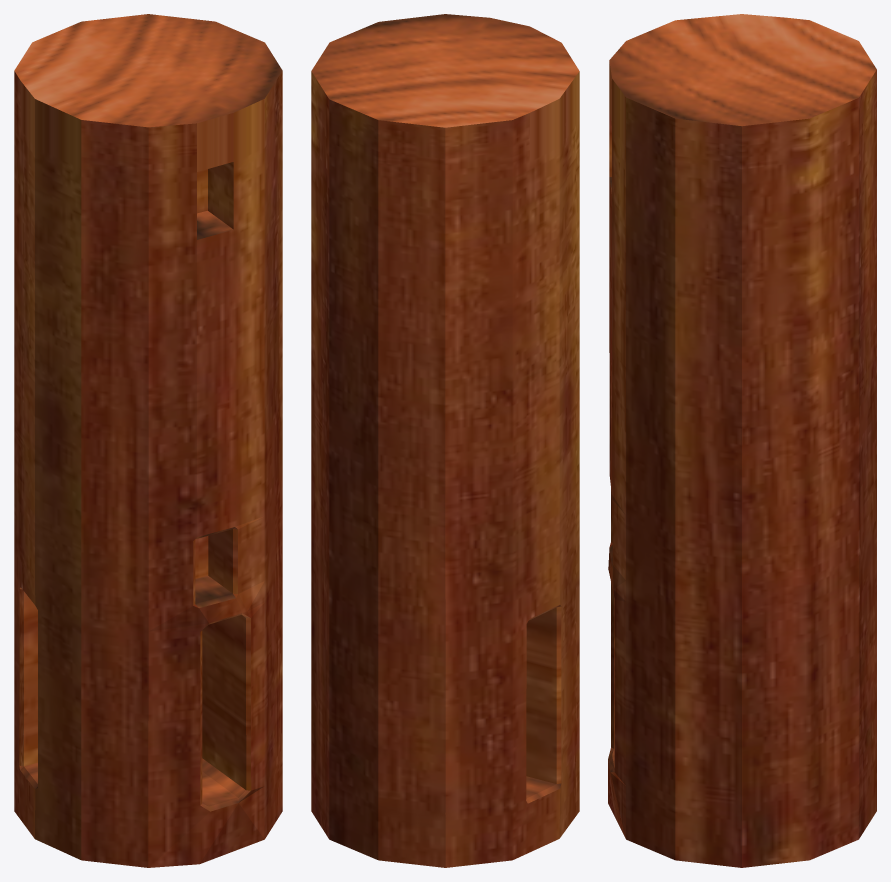
File: SJ_J_tui_01.FBX
The picture shows the model from 3 angles, left to right: view 1: azimuth 30°, elevation 25°; view 2: azimuth 150°, elevation 25°; view 3: azimuth 270°, elevation 25°; orthographic projection.
Parts seen in each view (by area): view 1: SJ_J_tui_01; view 2: SJ_J_tui_01; view 3: SJ_J_tui_01.
Boxes of the visible parts, bbox=[...] form: SJ_J_tui_01: bbox=[14, 14, 282, 867]; SJ_J_tui_01: bbox=[311, 14, 579, 867]; SJ_J_tui_01: bbox=[608, 14, 876, 867].
Size of the model in its own units: 4 by 12.31 by 4.04.
Materials: 2 (2 with a texture image).
